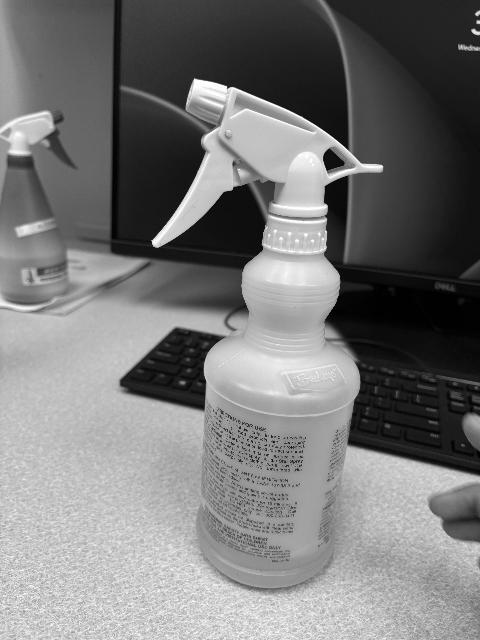StarSpray: (151, 80, 383, 593)
